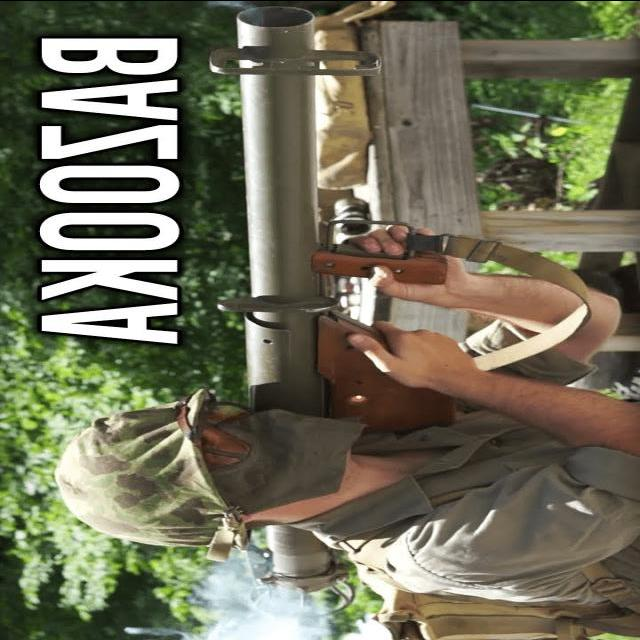rocket launcher: (205, 3, 438, 601)
